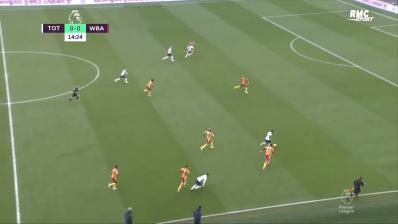football: (272, 142, 278, 148)
player: (175, 164, 189, 195), (189, 173, 211, 192), (199, 128, 216, 152), (108, 164, 121, 193), (234, 75, 252, 95), (261, 144, 274, 171), (143, 78, 156, 98), (115, 68, 130, 85), (260, 129, 274, 147), (162, 46, 175, 63), (184, 43, 195, 59)
referee: (66, 84, 82, 105)
